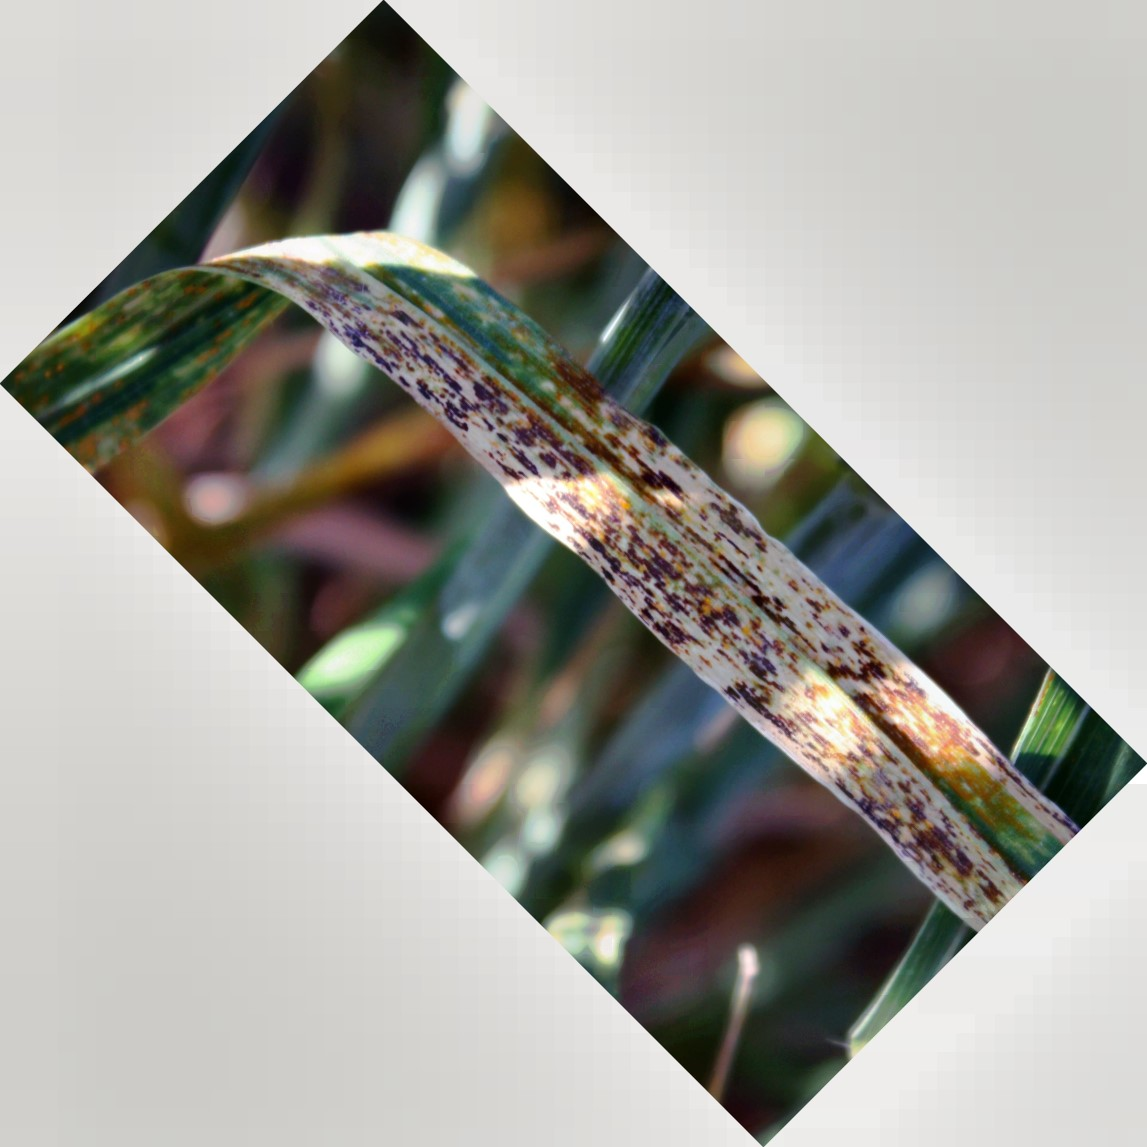Leaf Rust: (342, 290, 1005, 874)
